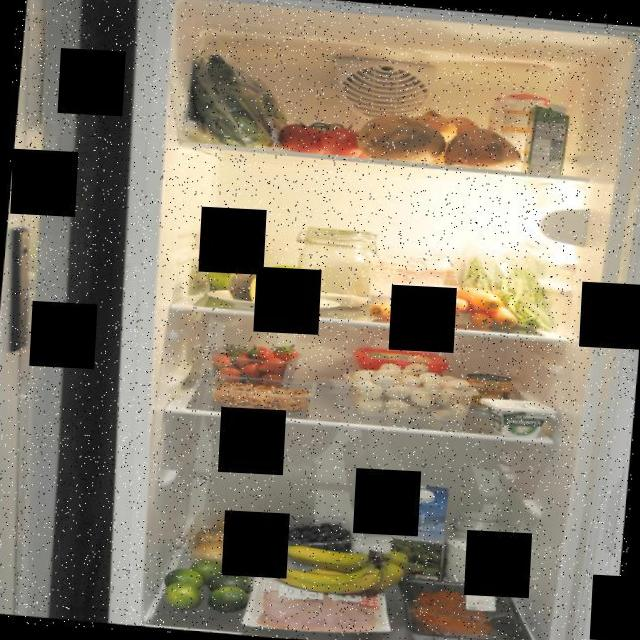Carne cerdo: (255, 579, 385, 636)
Carne vacuno: (405, 583, 510, 639)
Cebolla: (406, 106, 482, 146)
Champiñones: (342, 356, 482, 427)
Gambas/Langostinos: (212, 384, 312, 414)
Leche: (384, 482, 454, 594)
Mantequilla: (346, 342, 451, 382)
Manzana: (204, 257, 310, 300)
Patata: (184, 503, 295, 573)
Plátano: (278, 530, 406, 600)
Queso: (227, 264, 321, 310), (477, 396, 559, 440)
Tomate: (272, 116, 376, 158)
Zanahoria: (436, 283, 524, 335), (368, 294, 438, 326)
blueberries: (286, 512, 358, 556)
corn: (462, 371, 514, 413)
flour: (288, 221, 382, 313), (368, 244, 470, 316)
green_beans: (442, 236, 560, 334)
heavy_cream: (522, 101, 574, 178)
spinach: (172, 32, 298, 154)
strawberries: (210, 338, 294, 383)
sugar: (484, 89, 556, 172), (444, 509, 514, 592)
sweet_potato: (352, 112, 524, 176)
